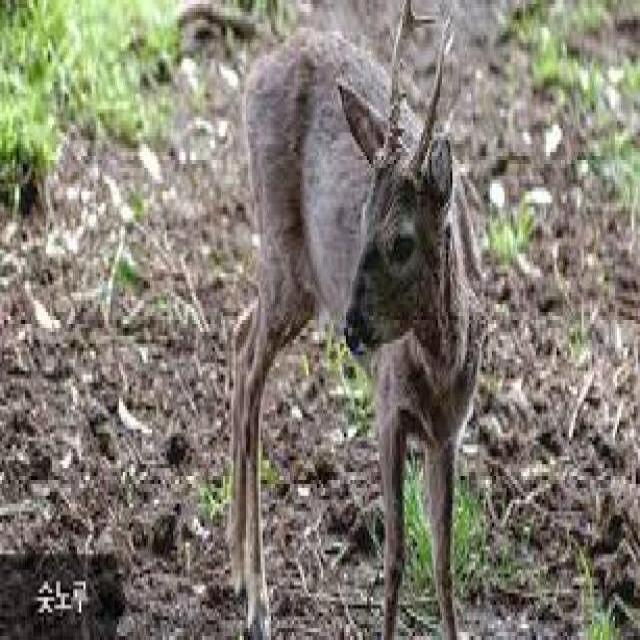deer: (225, 0, 489, 640)
